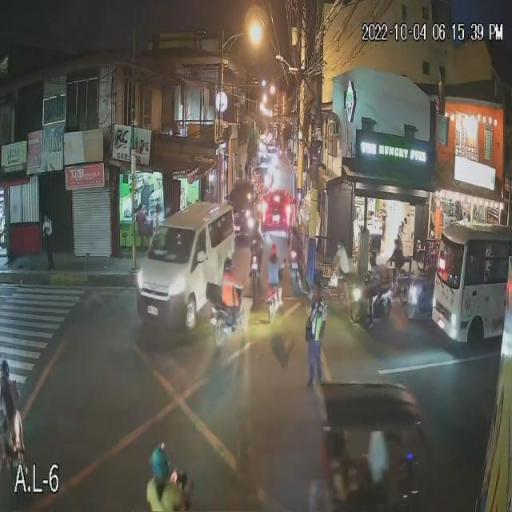helmet: (150, 444, 170, 478), (223, 258, 235, 268)
motorcycle: (346, 278, 392, 336), (0, 398, 30, 478), (210, 300, 250, 348), (406, 274, 434, 322), (266, 282, 287, 323), (247, 262, 264, 296)
rider: (146, 444, 194, 512), (0, 359, 23, 448), (218, 257, 246, 320), (264, 243, 286, 304), (360, 254, 384, 306), (406, 241, 430, 291), (246, 234, 263, 274)
